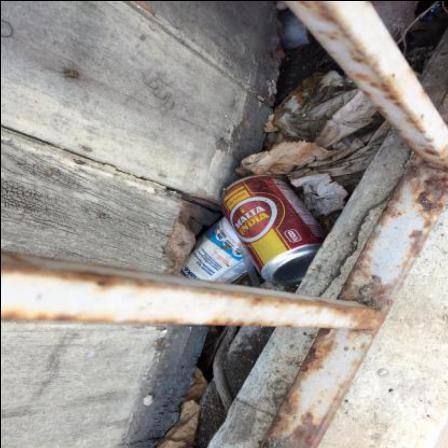Bottle: (179, 217, 247, 284)
Can: (221, 176, 327, 285)
Other litter: (236, 117, 392, 217), (272, 71, 378, 149), (157, 369, 209, 448)
Straw: (238, 243, 262, 289)
